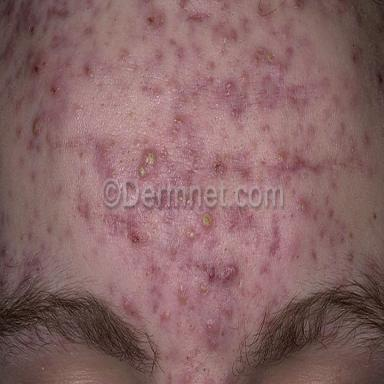acne: (139, 149, 156, 177), (121, 293, 136, 319), (221, 264, 238, 282), (212, 156, 227, 176), (205, 316, 218, 333), (33, 118, 43, 136), (207, 335, 219, 350), (178, 285, 187, 304), (169, 245, 179, 261), (222, 302, 233, 316), (377, 72, 384, 94), (225, 81, 235, 96), (345, 251, 355, 265), (131, 230, 141, 243), (298, 199, 307, 213), (161, 309, 171, 321), (202, 214, 211, 227), (0, 245, 8, 259), (147, 16, 157, 27), (199, 283, 208, 294), (232, 105, 241, 116), (50, 85, 59, 96), (16, 125, 23, 139), (34, 61, 42, 73), (209, 265, 215, 280), (221, 35, 229, 46), (46, 132, 53, 144), (85, 64, 91, 77), (253, 53, 260, 64), (294, 156, 301, 167), (294, 0, 302, 9), (364, 133, 370, 145), (179, 0, 187, 9), (266, 51, 272, 62), (277, 154, 283, 165), (133, 138, 139, 149), (187, 231, 195, 239), (174, 117, 182, 125), (29, 25, 35, 34), (242, 73, 247, 82)
